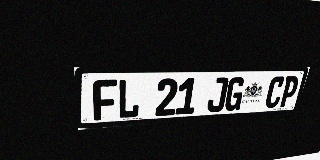1: (175, 78, 198, 115)
2: (155, 78, 178, 116)
C: (264, 76, 286, 108)
F: (93, 79, 117, 121)
G: (223, 77, 246, 111)
J: (206, 77, 229, 113)
L: (117, 79, 141, 119)
P: (278, 76, 300, 107)
